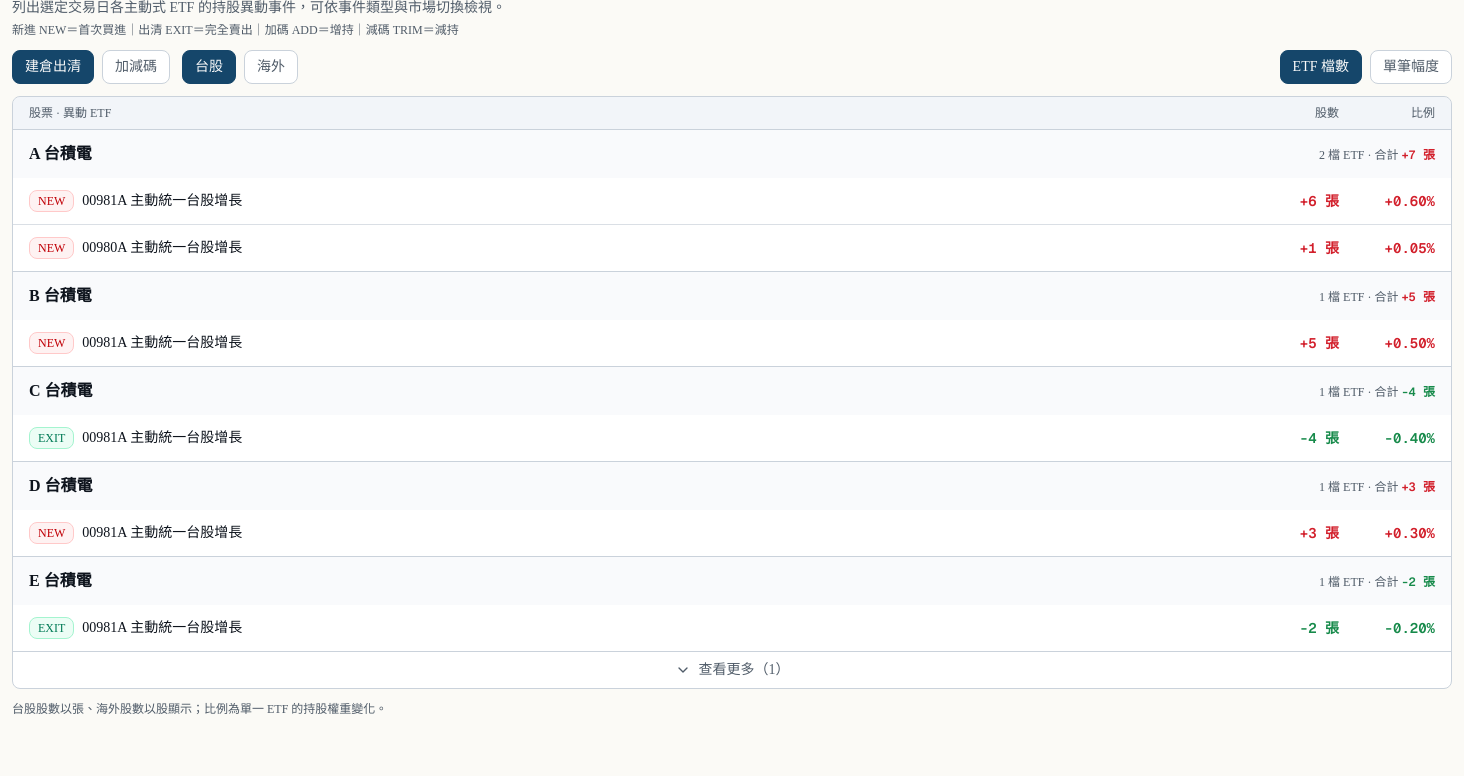
Test: ChangeWall › 預設顯示前五個股票分組並以剩餘組數展開
Check: the number of elements with test id "change-group" is 5, box [13,130,1451,272]; [13,272,1451,367]; [13,367,1451,462]; [13,462,1451,557]; [13,557,1451,651]
Check: the link "F 台積電" is not shown
Click the button "查看更多（1）". click: point(732, 670)
box: [13,651,1451,688]
(page scrolled)
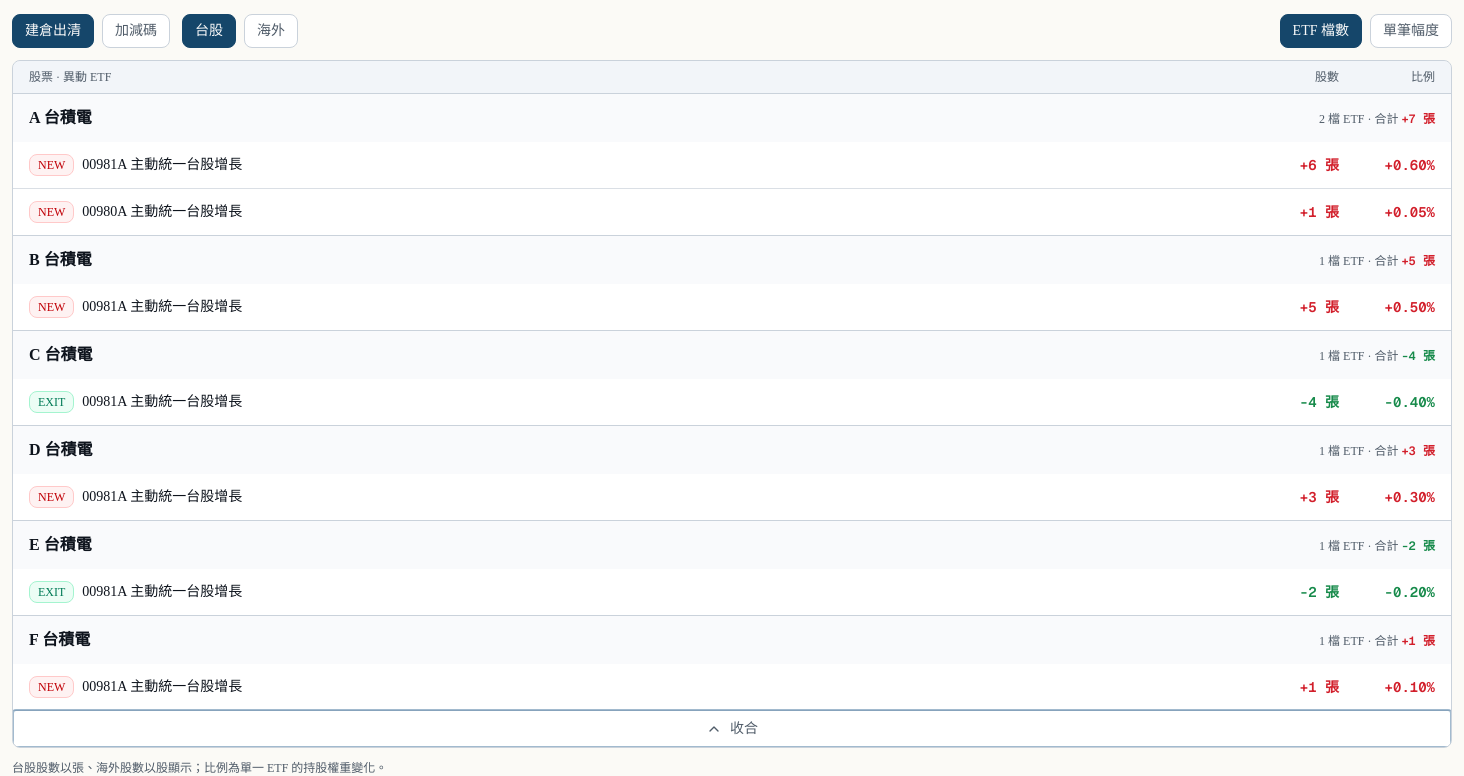
Check: the number of elements with test id "change-group" is 6, box [13,94,1451,236]; [13,236,1451,331]; [13,331,1451,426]; [13,426,1451,521]; [13,521,1451,616]; [13,616,1451,710]
Check: the link "F 台積電" is shown, box [29,628,90,652]
Click the button "收合". click: point(732, 728)
box: [13,710,1451,747]
(page scrolled)
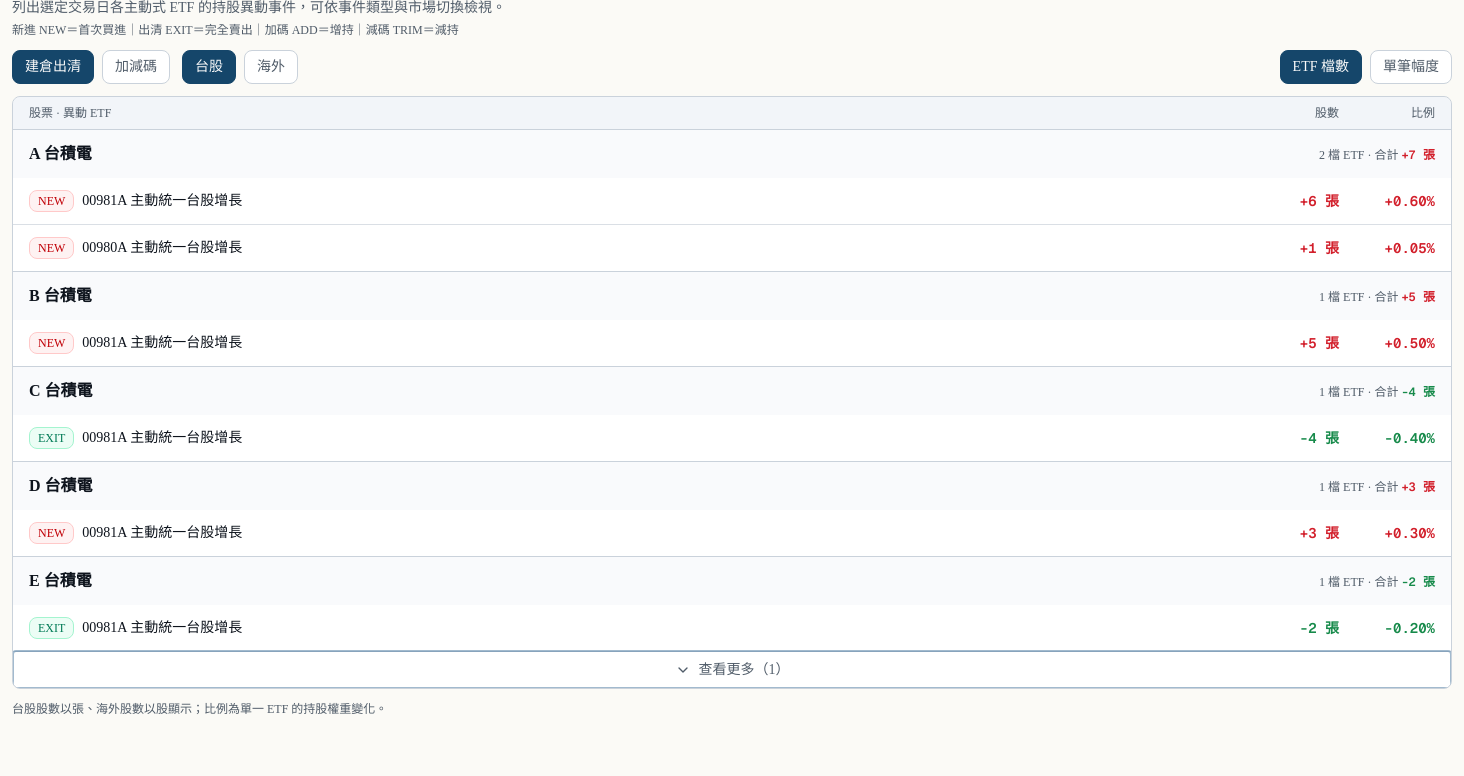
Check: the number of elements with test id "change-group" is 5, box [13,130,1451,272]; [13,272,1451,367]; [13,367,1451,462]; [13,462,1451,557]; [13,557,1451,651]
